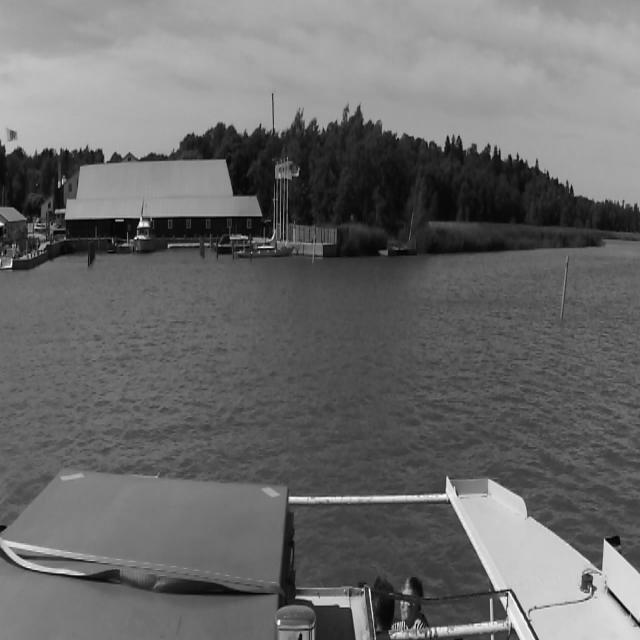buoy: (561, 252, 569, 322), (313, 236, 315, 263)
ship: (237, 91, 291, 256), (135, 219, 153, 249)
